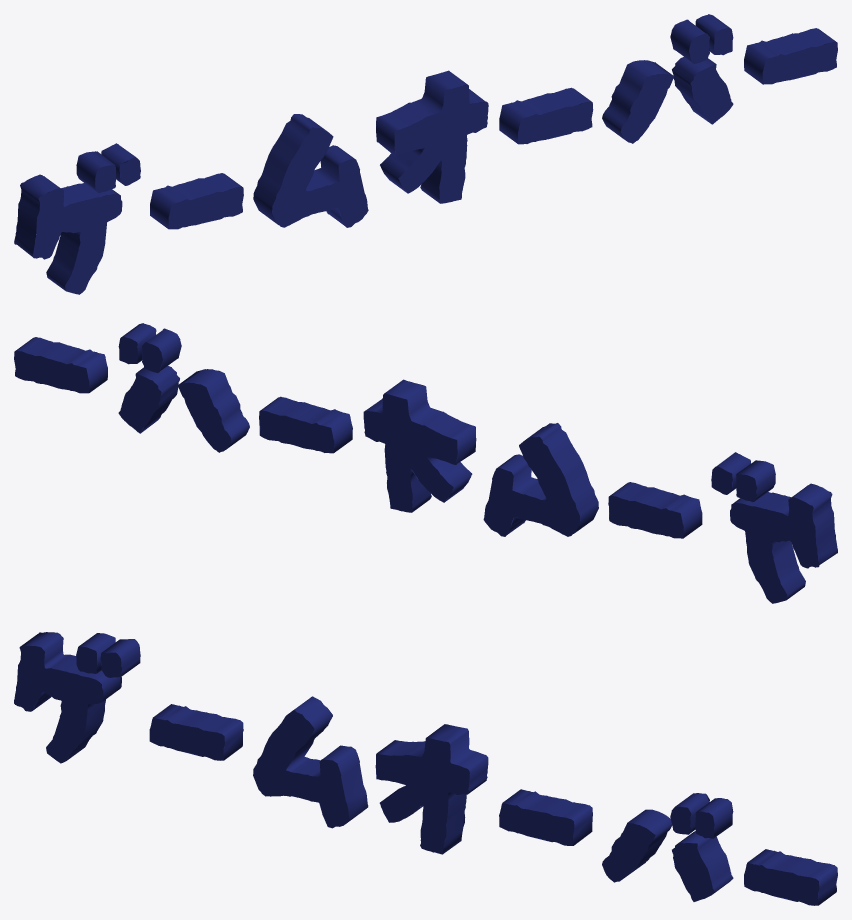
Rendered from Gameover.obj.
3 views of the same model, one above another, from view 1: azimuth 30°, elevation 25°; view 2: azimuth 150°, elevation 25°; view 3: azimuth 330°, elevation 25° (orthographic).
Parts seen in each view (by area): view 1: テキスト; view 2: テキスト; view 3: テキスト.
Boxes of the visible parts, x1=… form: テキスト: x1=14, y1=14, x2=837, y2=294; テキスト: x1=14, y1=323, x2=837, y2=603; テキスト: x1=14, y1=632, x2=837, y2=905.
Size of the model in its own units: 2.5 by 0.3687 by 0.1.
Materials: 1 (1 with a texture image).
